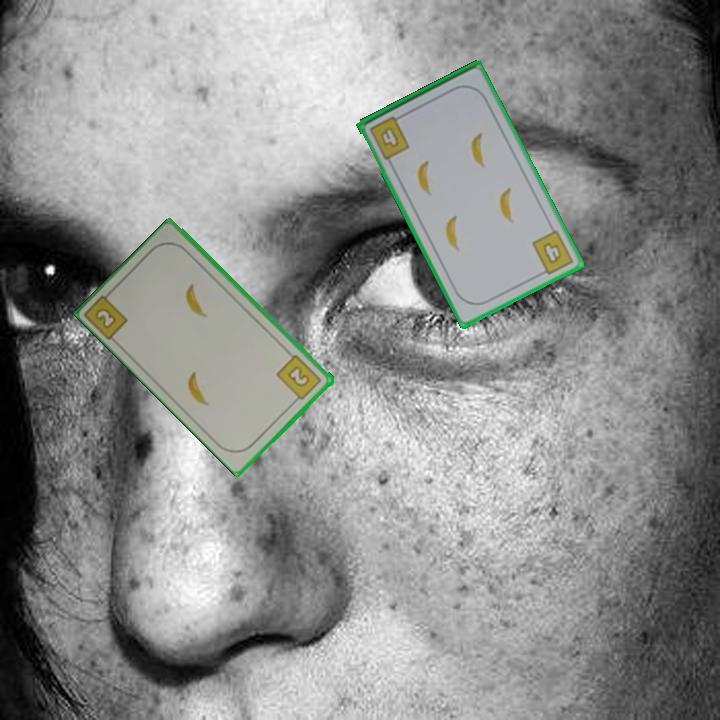2b: (273, 351, 325, 406), (83, 285, 131, 343)
4b: (528, 226, 577, 279), (366, 111, 413, 162)
